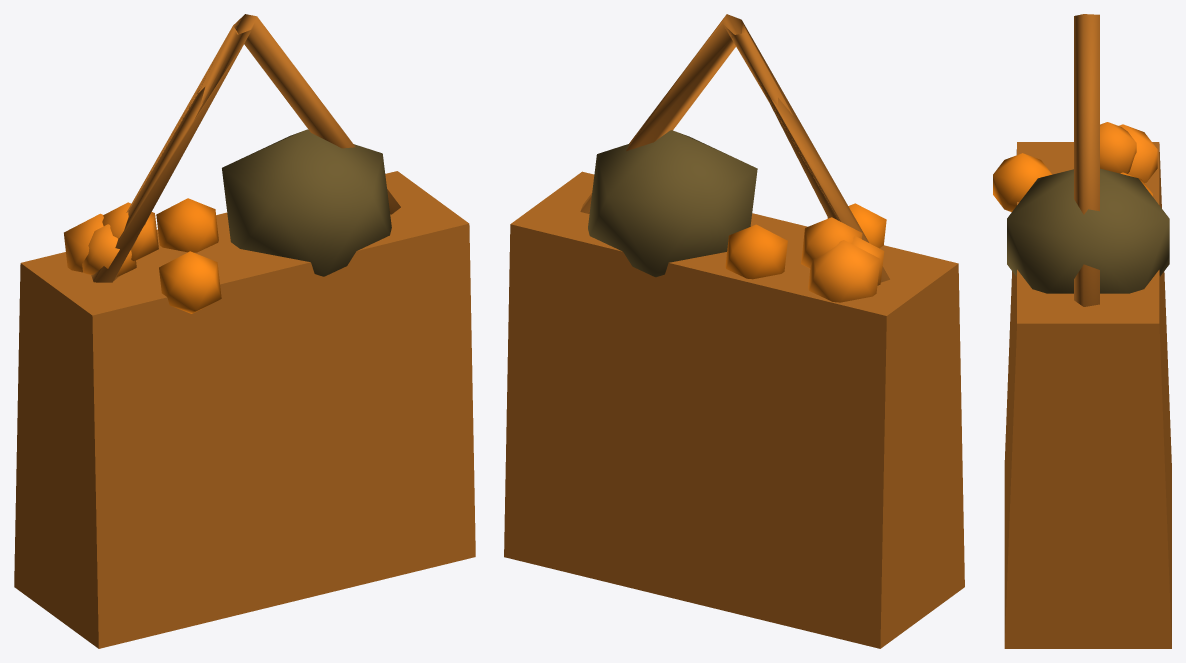
File: PRP_Temple_Bag_A.glb
3 renders of one model, left to right at view 1: azimuth 30°, elevation 25°; view 2: azimuth 150°, elevation 25°; view 3: azimuth 270°, elevation 25°, orthographic.
Visible parts, largest first — view 1: PRP_Temple_Bag_A_Mesh; view 2: PRP_Temple_Bag_A_Mesh; view 3: PRP_Temple_Bag_A_Mesh.
Boxes of the visible parts, x1,y1,x2,y2 form: PRP_Temple_Bag_A_Mesh: (14,14,475,648); PRP_Temple_Bag_A_Mesh: (504,14,964,648); PRP_Temple_Bag_A_Mesh: (993,14,1171,648).
Size of the model in its own units: 0.36 by 0.5063 by 0.1497.
